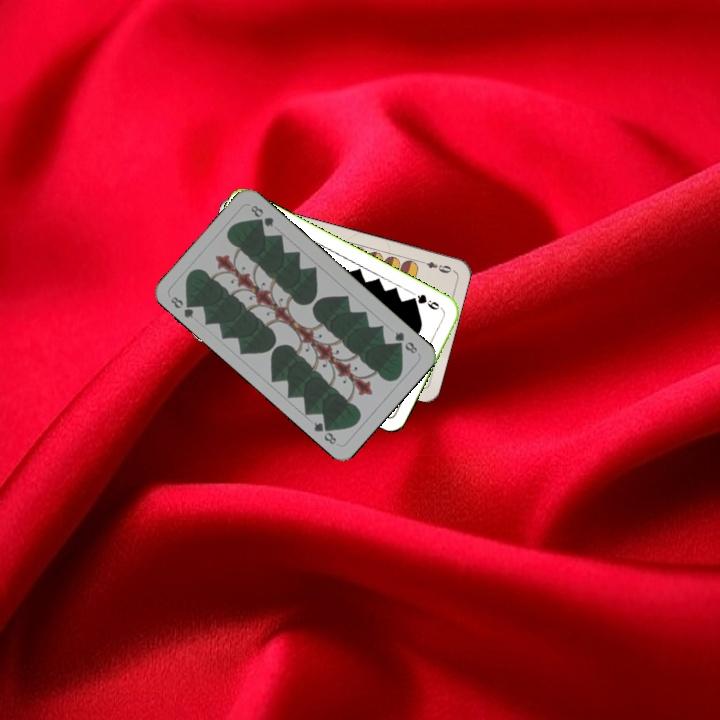E9: (416, 257, 456, 276)
G8: (166, 292, 198, 321), (390, 327, 420, 356)
G9: (407, 290, 446, 313)
